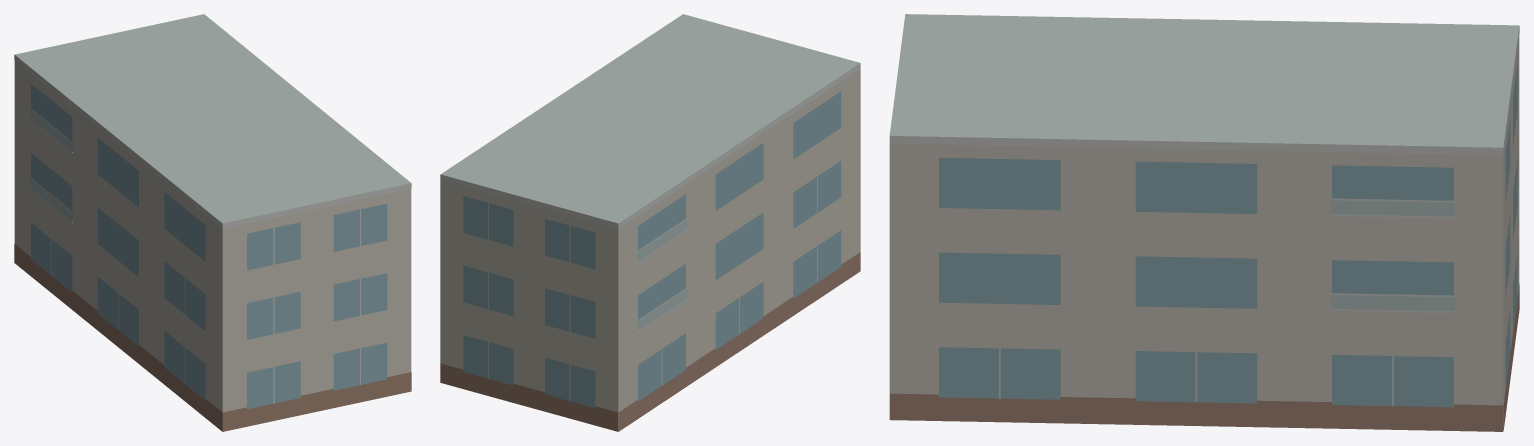
File: survey-upis-32924923.glb
3 views of the same model, side by side, from view 1: azimuth 30°, elevation 25°; view 2: azimuth 150°, elevation 25°; view 3: azimuth 270°, elevation 25° (orthographic). The views are drawn at different scales.
Parts seen in each view (by area): view 1: survey-upis-32924923.tmp; view 2: survey-upis-32924923.tmp; view 3: survey-upis-32924923.tmp.
Boxes of the visible parts, x1,y1,x2,y2 form: survey-upis-32924923.tmp: (14, 14, 411, 431); survey-upis-32924923.tmp: (440, 14, 860, 431); survey-upis-32924923.tmp: (889, 14, 1519, 431).
Size of the model in its own units: 9.24 by 9.15 by 18.39.
